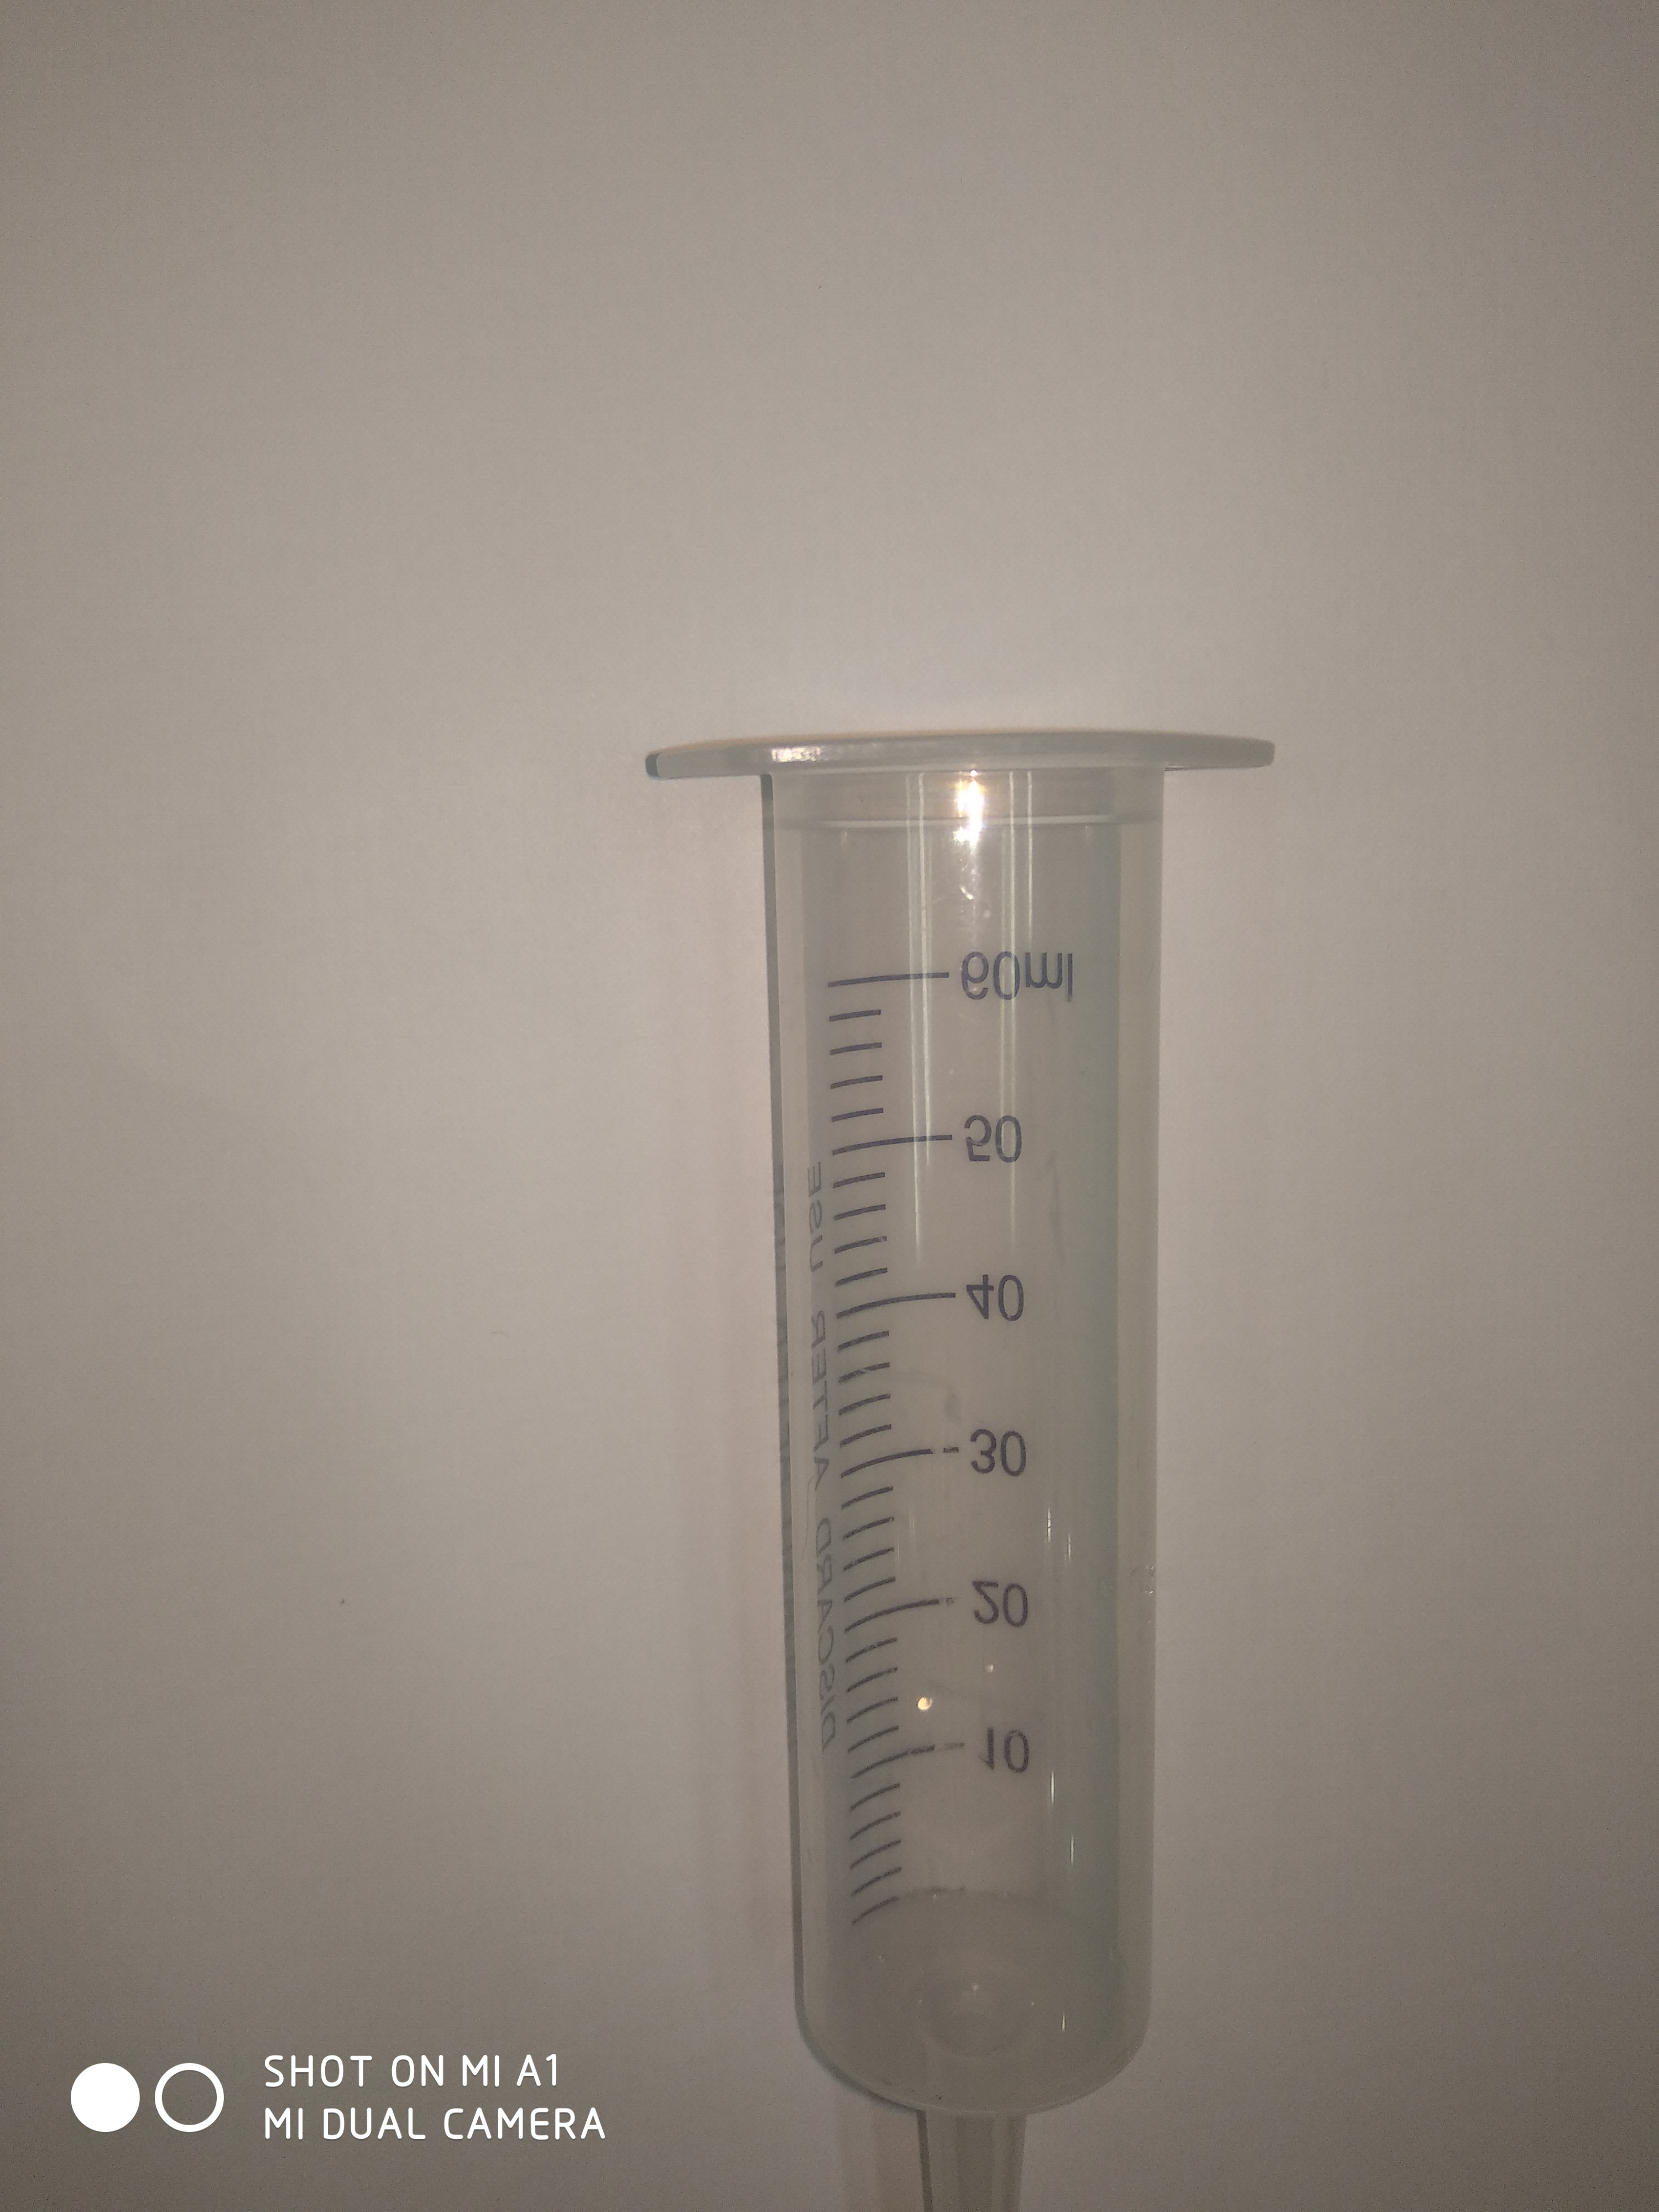syringe: (634, 711, 1297, 2207)
